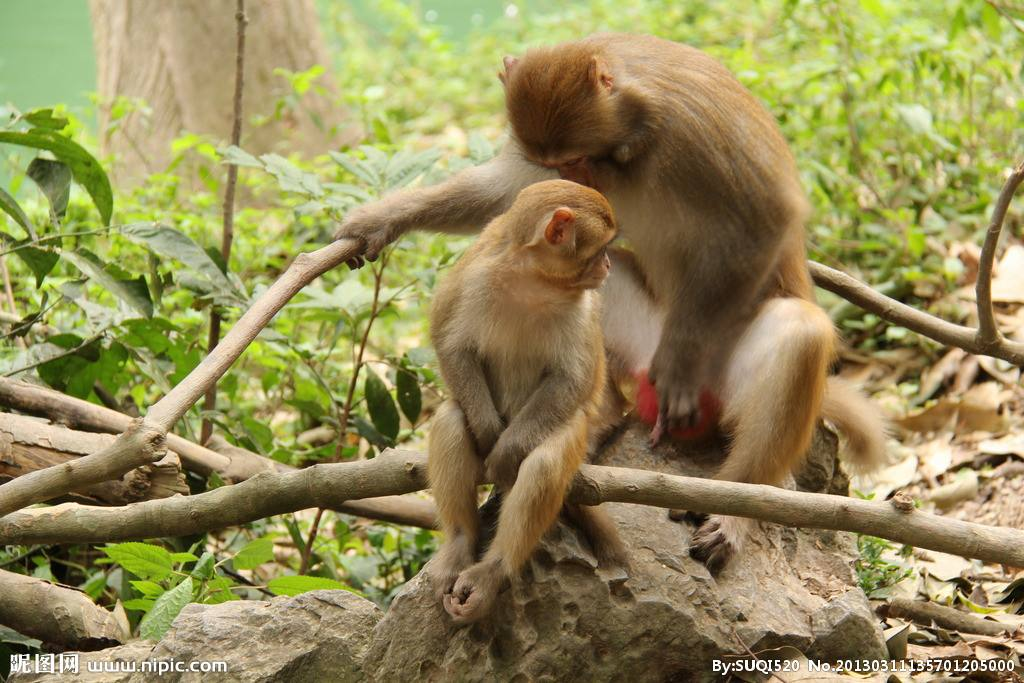monkey: (435, 44, 846, 546), (452, 193, 629, 596)
